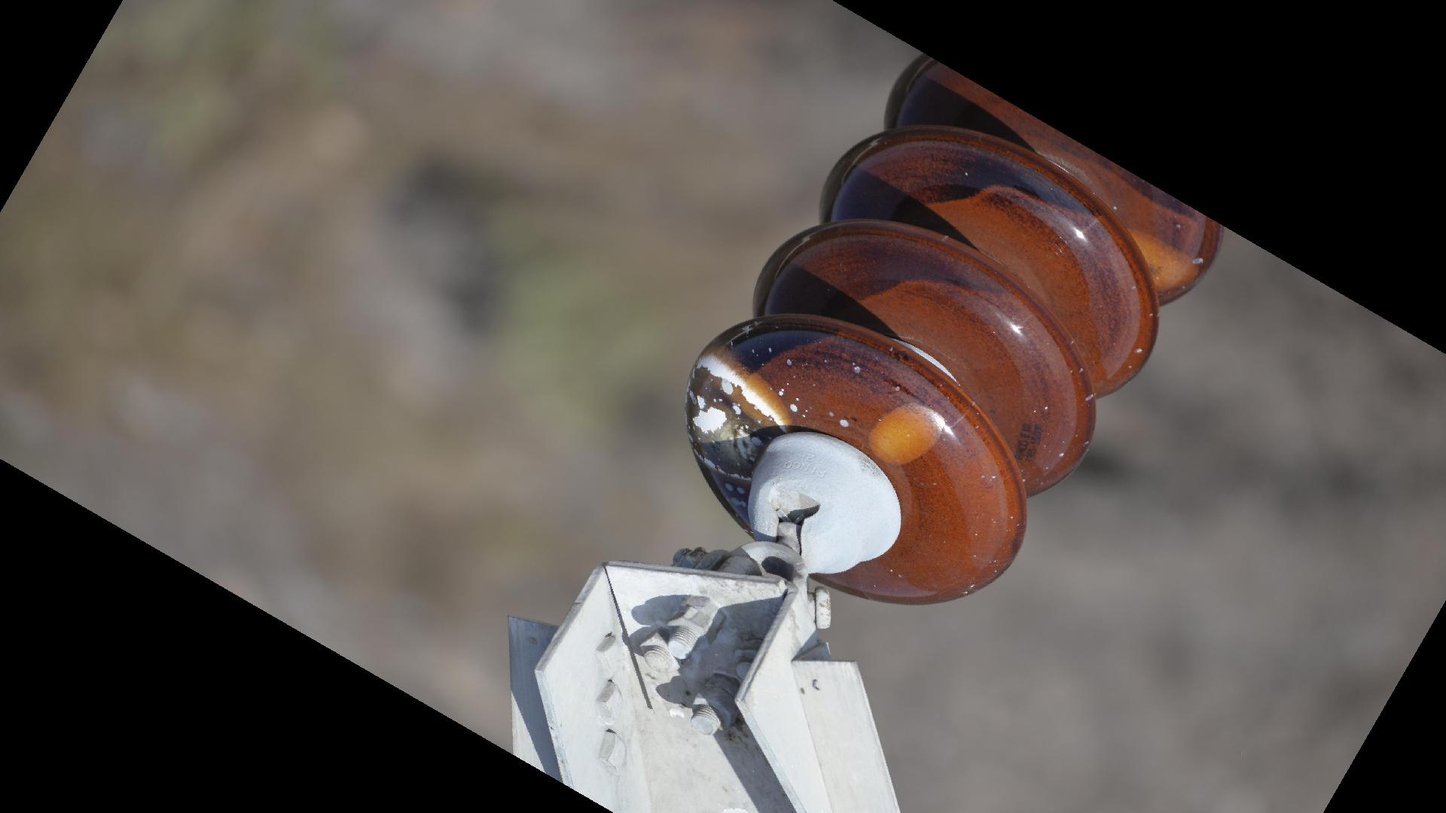insulator: (678, 50, 1231, 613)
insulator_flashover: (682, 340, 794, 484), (865, 400, 948, 469), (1123, 227, 1203, 298)
